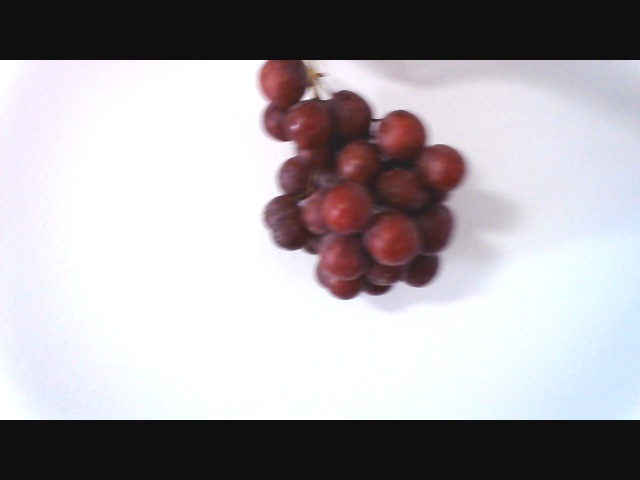grape: (245, 64, 466, 300)
